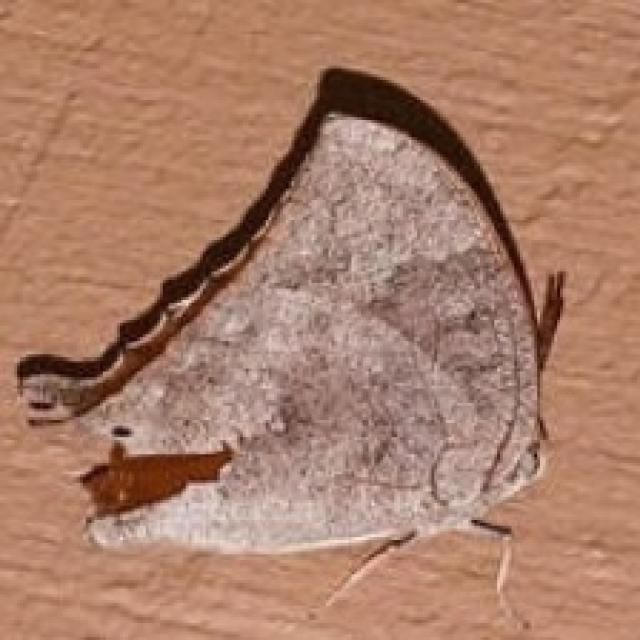butterfly: (14, 63, 566, 626)
